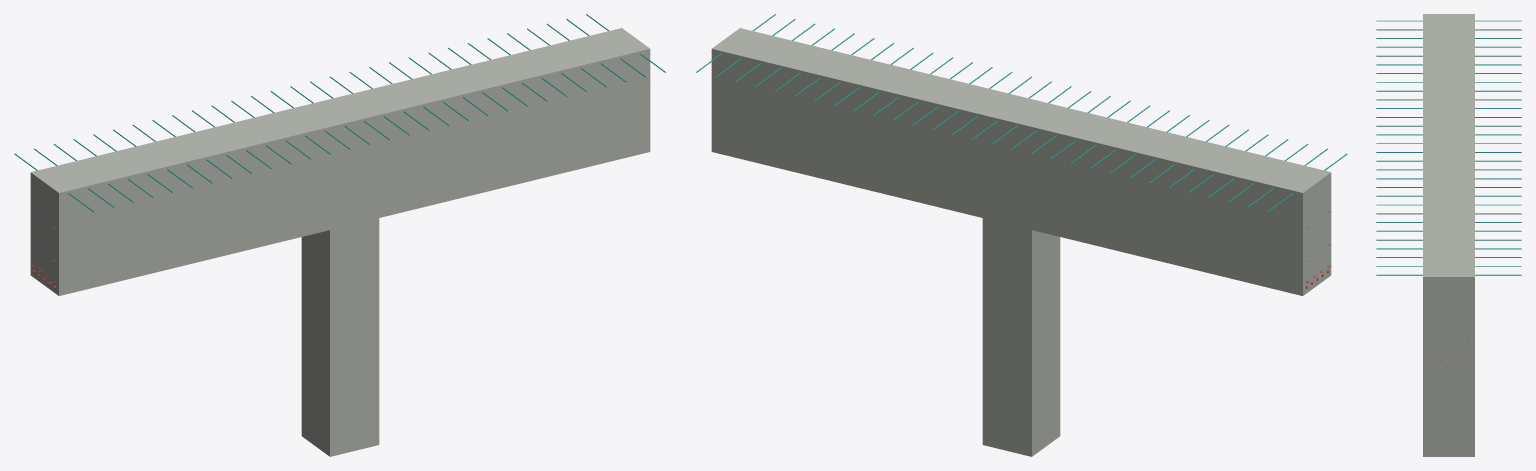
Rendered from unterzug-441-achse17.glb.
3 renders of one model, left to right at view 1: azimuth 30°, elevation 25°; view 2: azimuth 150°, elevation 25°; view 3: azimuth 270°, elevation 25°, orthographic. The views are drawn at different scales.
Visible parts, largest first — view 1: Beton; view 2: Beton; view 3: Beton, Pos_30_geschaetzt_28, Pos_30_geschaetzt_29, Pos_30_geschaetzt_31, Pos_30_geschaetzt_32, Pos_30_geschaetzt_33, Pos_30_geschaetzt_36, Pos_30_geschaetzt_37, Pos_30_geschaetzt_40, Pos_30_geschaetzt_41, Pos_30_geschaetzt_44, Pos_30_geschaetzt_45 (+8 smaller).
Boxes of the visible parts, bbox=[...] form: Beton: bbox=[30, 28, 650, 456]; Beton: bbox=[711, 28, 1331, 456]; Beton: bbox=[1423, 14, 1474, 456]; Pos_30_geschaetzt_28: bbox=[1376, 20, 1521, 21]; Pos_30_geschaetzt_29: bbox=[1376, 29, 1521, 30]; Pos_30_geschaetzt_31: bbox=[1376, 46, 1521, 47]; Pos_30_geschaetzt_32: bbox=[1376, 55, 1521, 56]; Pos_30_geschaetzt_33: bbox=[1376, 64, 1521, 65]; Pos_30_geschaetzt_36: bbox=[1376, 90, 1521, 91]; Pos_30_geschaetzt_37: bbox=[1376, 99, 1521, 100]; Pos_30_geschaetzt_40: bbox=[1376, 125, 1521, 126]; Pos_30_geschaetzt_41: bbox=[1376, 134, 1521, 135]; Pos_30_geschaetzt_44: bbox=[1376, 160, 1521, 161]; Pos_30_geschaetzt_45: bbox=[1376, 169, 1521, 170].
Size of the model in its own units: 6.1 by 3.2 by 1.4.
